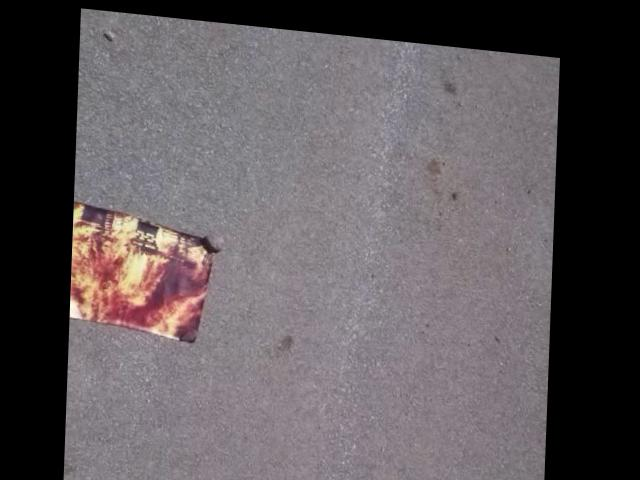fire-poster: (72, 196, 224, 344)
